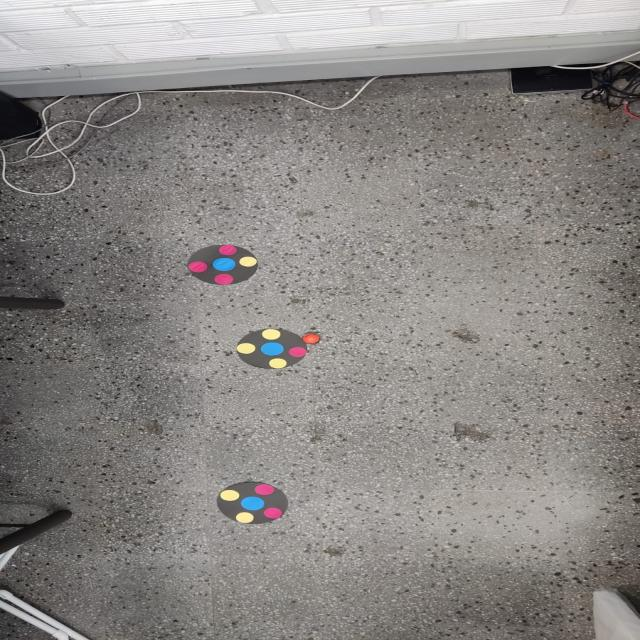0: (188, 244, 260, 286)
1: (217, 482, 290, 524)
2: (234, 328, 309, 369)
Ball: (303, 334, 320, 344)
